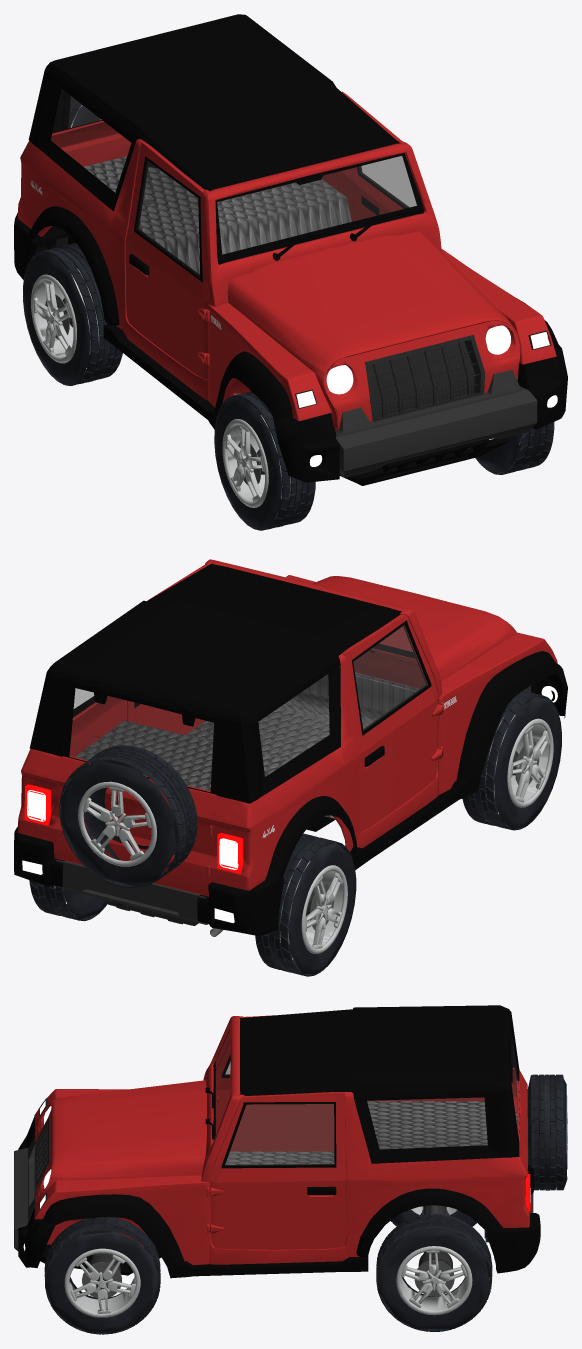
Rendered from thar.glb.
The picture shows the model from 3 angles, top to bottom: view 1: azimuth 30°, elevation 25°; view 2: azimuth 150°, elevation 25°; view 3: azimuth 270°, elevation 25°; orthographic projection. The views are drawn at different scales.
Parts seen in each view (by area): view 1: Object_20, Object_16, Object_39, Object_41, Object_42, Object_18, Object_45, Object_33, Object_43, Object_4, Object_47, Object_28 (+17 smaller); view 2: Object_20, Object_41, Object_33, Object_39, Object_18, Object_42, Object_31, Object_47, Object_16, Object_43, Object_4, Object_27 (+11 smaller); view 3: Object_20, Object_18, Object_41, Object_16, Object_33, Object_39, Object_42, Object_47, Object_5, Object_31, Object_43, Object_21 (+15 smaller).
Part boxes in pixels (x1,y1,x2,y2): Object_20: [28, 14, 399, 211]; Object_16: [227, 231, 511, 372]; Object_39: [51, 89, 416, 276]; Object_41: [18, 131, 441, 400]; Object_42: [84, 156, 351, 394]; Object_18: [125, 91, 403, 379]; Object_45: [335, 370, 537, 477]; Object_33: [23, 96, 546, 529]; Object_43: [14, 212, 567, 482]; Object_4: [208, 302, 331, 421]; Object_47: [29, 176, 558, 418]; Object_28: [62, 92, 423, 282]; Object_20: [29, 563, 404, 803]; Object_41: [17, 559, 442, 896]; Object_33: [37, 691, 561, 974]; Object_39: [70, 625, 427, 791]; Object_18: [127, 564, 443, 875]; Object_42: [75, 673, 418, 818]; Object_31: [29, 690, 561, 921]; Object_47: [93, 651, 559, 879]; Object_16: [313, 576, 512, 680]; Object_43: [14, 663, 567, 935]; Object_4: [438, 632, 557, 794]; Object_27: [55, 755, 216, 895]; Object_20: [239, 1005, 519, 1163]; Object_18: [206, 1015, 346, 1249]; Object_41: [201, 1016, 530, 1264]; Object_16: [50, 1080, 206, 1177]; Object_33: [44, 1074, 567, 1332]; Object_39: [216, 1032, 519, 1165]; Object_42: [225, 1101, 517, 1164]; Object_47: [42, 1100, 502, 1266]; Object_5: [34, 1175, 209, 1265]; Object_31: [376, 1074, 563, 1331]; Object_43: [18, 1117, 540, 1273]; Object_21: [167, 1256, 368, 1278].
Size of the model in its own units: 14.51 by 13.63 by 28.9.
Materials: 37 (15 with a texture image).
